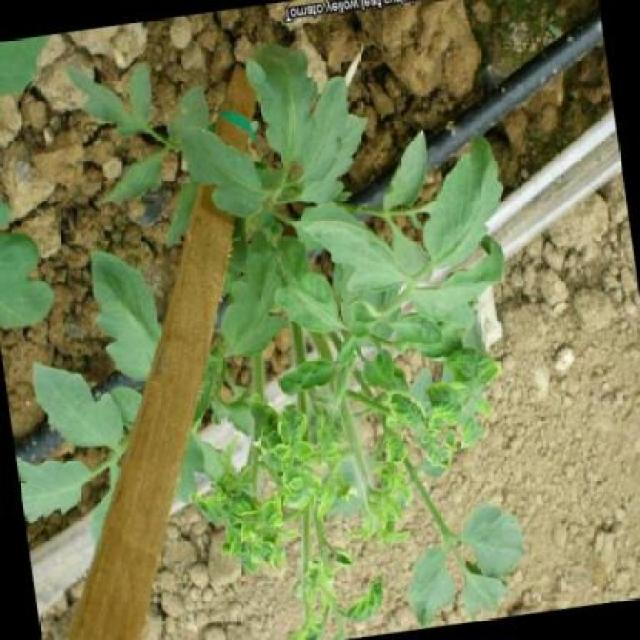Healthy Leaf: (238, 23, 331, 189), (409, 126, 509, 274), (312, 212, 431, 320), (203, 238, 295, 371), (83, 250, 165, 392), (175, 115, 268, 228), (28, 352, 120, 466), (285, 75, 369, 188), (19, 438, 104, 537), (455, 497, 531, 585), (372, 134, 437, 218), (95, 150, 177, 212), (384, 306, 444, 356)
